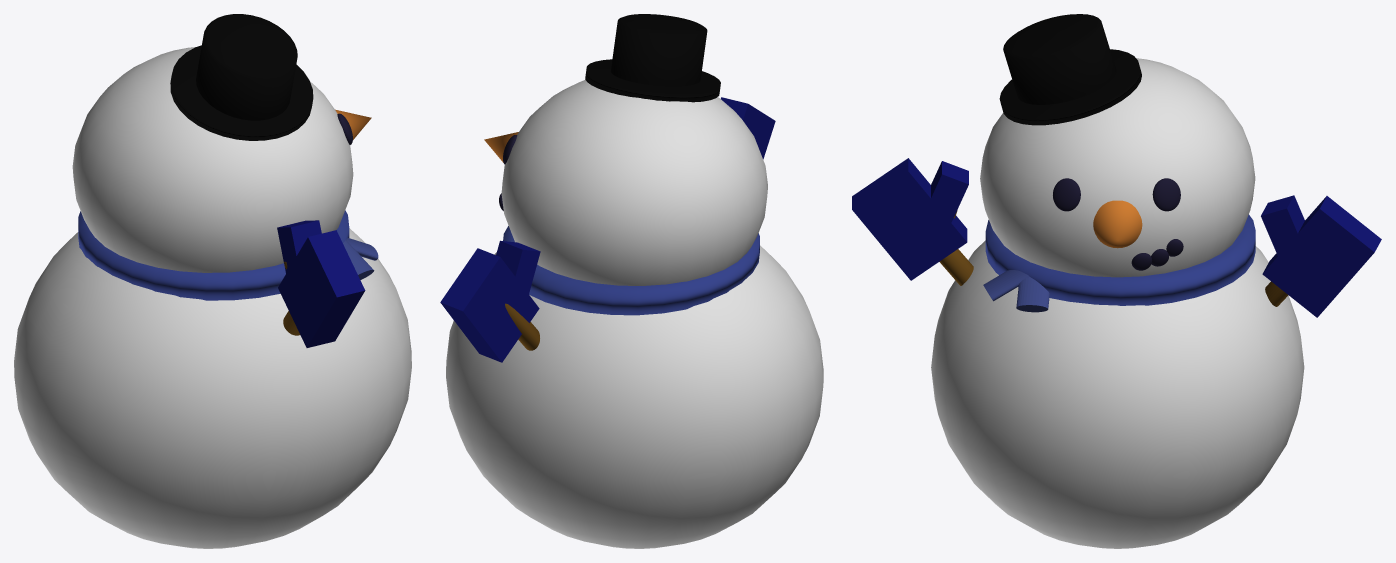
File: snowman_Naomi.glb
3 views of the same model, side by side, from view 1: azimuth 30°, elevation 25°; view 2: azimuth 150°, elevation 25°; view 3: azimuth 270°, elevation 25° (orthographic). The views are drawn at different scales.
Visible parts, largest first — view 1: Sphere, Sphere.001, Cylinder.001, Cube, Cylinder.004, Cylinder, Cube.001, Cylinder.005; view 2: Sphere, Sphere.001, Cylinder.004, Cube.002, Cylinder.001, Cylinder, Cube.003, Cube, Cylinder.002; view 3: Sphere, Sphere.001, Cylinder.004, Cylinder.001, Cube, Cube.002, Cylinder, Cube.003, Cone, Cube.001, Cylinder.006, Cylinder.005 (+3 smaller).
Boxes of the visible parts, x1,y1,x2,y2 form: Sphere: (14, 228, 411, 548); Sphere.001: (72, 47, 353, 272); Cylinder.001: (196, 14, 297, 120); Cube: (278, 230, 365, 347); Cylinder.004: (78, 210, 349, 300); Cylinder: (170, 45, 313, 140); Cube.001: (277, 220, 321, 273); Cylinder.005: (343, 240, 374, 279); Sphere: (446, 245, 823, 548); Sphere.001: (501, 80, 767, 285); Cylinder.004: (503, 226, 759, 315); Cube.002: (440, 248, 539, 362); Cylinder.001: (611, 14, 707, 86); Cylinder: (585, 59, 720, 102); Cube.003: (496, 240, 540, 293); Cube: (721, 97, 775, 159); Cylinder.002: (505, 303, 539, 350); Sphere: (931, 240, 1304, 548); Sphere.001: (980, 58, 1255, 277); Cylinder.004: (985, 214, 1255, 305); Cylinder.001: (1003, 14, 1116, 104); Cube: (852, 158, 967, 280); Cube.002: (1262, 196, 1381, 317); Cylinder: (999, 49, 1141, 125); Cube.003: (1261, 195, 1307, 263); Cone: (1093, 200, 1142, 248); Cube.001: (922, 161, 968, 222); Cylinder.006: (1016, 277, 1049, 312); Cylinder.005: (983, 270, 1029, 301).
Bounding box in the file's own units: 2.53 × 3.59 × 3.39.
11 materials, 6 textured.
